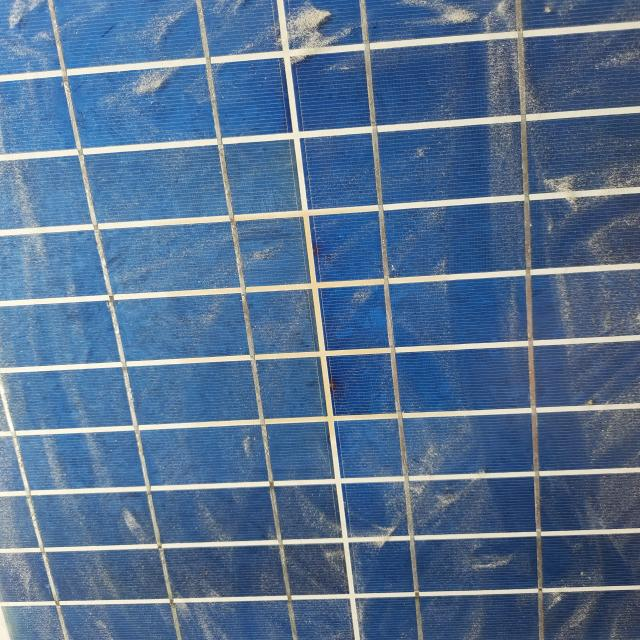dust-solar-panel: (0, 0, 638, 640)
